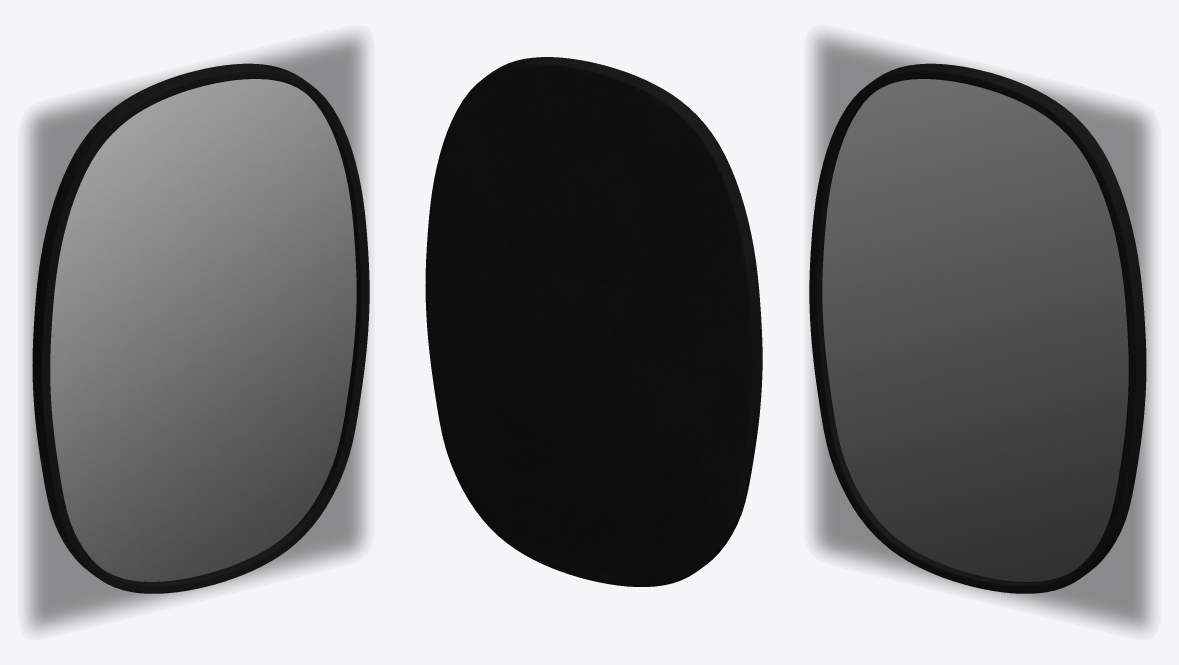
The model's file is abo-b07b92c9wt.7f7620cb57.ar.glb.
The picture shows the model from 3 angles, left to right: view 1: azimuth 30°, elevation 25°; view 2: azimuth 150°, elevation 25°; view 3: azimuth 330°, elevation 25°; orthographic projection.
Parts seen in each view (by area): view 1: RootNode, object 2; view 2: RootNode; view 3: RootNode, object 2.
Boxes of the visible parts, left/top/right/bottom form: RootNode: left=32, top=63, right=369, bottom=593; object 2: left=27, top=35, right=365, bottom=629; RootNode: left=425, top=57, right=762, bottom=586; RootNode: left=809, top=63, right=1146, bottom=593; object 2: left=813, top=35, right=1151, bottom=629.
Bounding box in the file's own units: 0.8043 × 1.15 × 0.0372.
2 materials, 2 textured.
